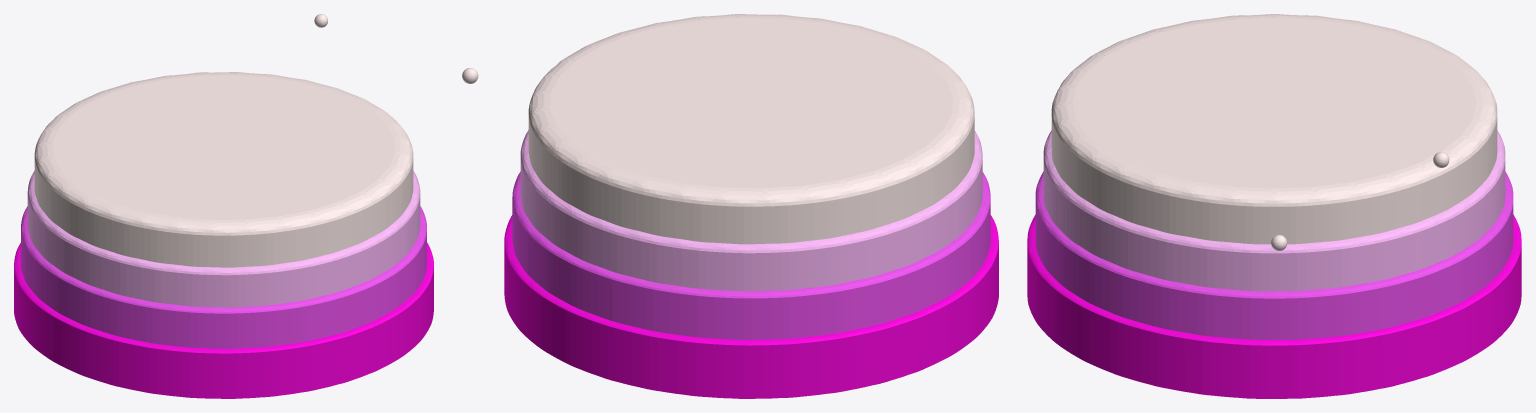
The model's file is bolocilindro  cobertura neon rosa.glb.
3 views of the same model, side by side, from view 1: azimuth 30°, elevation 25°; view 2: azimuth 150°, elevation 25°; view 3: azimuth 270°, elevation 25° (orthographic). The views are drawn at different scales.
Visible parts, largest first — view 1: Cylinder.006, Cylinder.005, Cylinder.004, Cylinder.002; view 2: Cylinder.006, Cylinder.005, Cylinder.004, Cylinder.002; view 3: Cylinder.006, Cylinder.005, Cylinder.004, Cylinder.002.
Part boxes in pixels (x1,y1,x2,y2): Cylinder.006: (34,72,413,267); Cylinder.005: (14,242,433,398); Cylinder.004: (21,206,426,348); Cylinder.002: (27,170,420,307); Cylinder.006: (528,14,974,244); Cylinder.005: (504,215,998,398); Cylinder.004: (512,171,990,339); Cylinder.002: (520,130,982,291); Cylinder.006: (1051,14,1497,244); Cylinder.005: (1027,214,1521,398); Cylinder.004: (1035,171,1513,339); Cylinder.002: (1043,130,1505,291).
Size of the model in its own units: 3.04 by 1.64 by 3.04.
